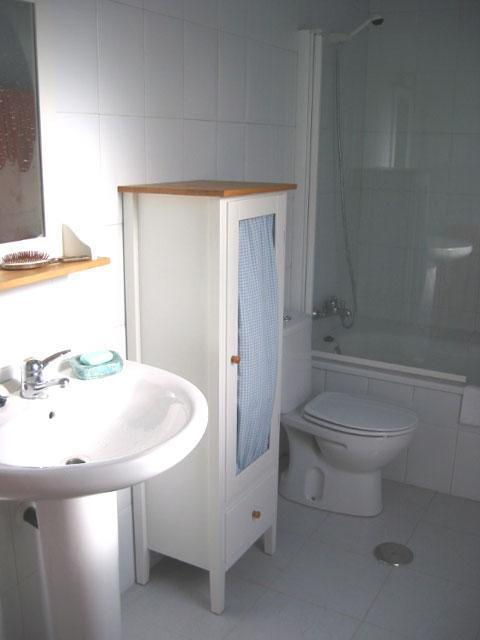Ducha: (289, 11, 427, 348)
